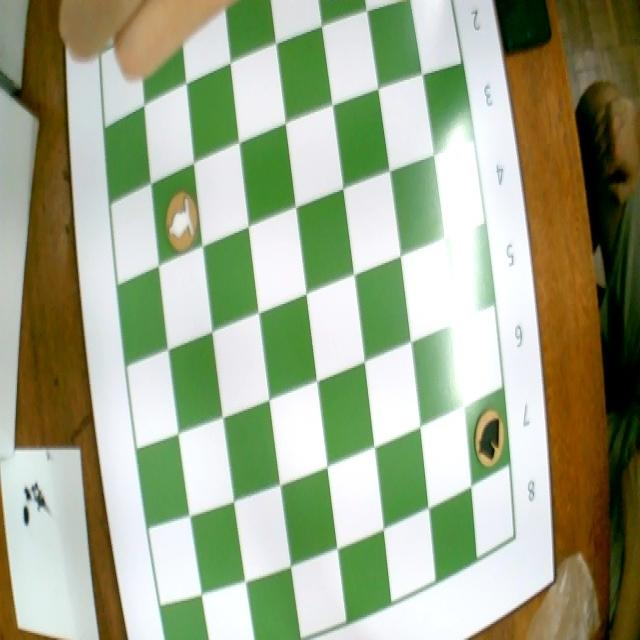chess-pieces: (469, 398, 506, 471), (160, 182, 198, 251)
